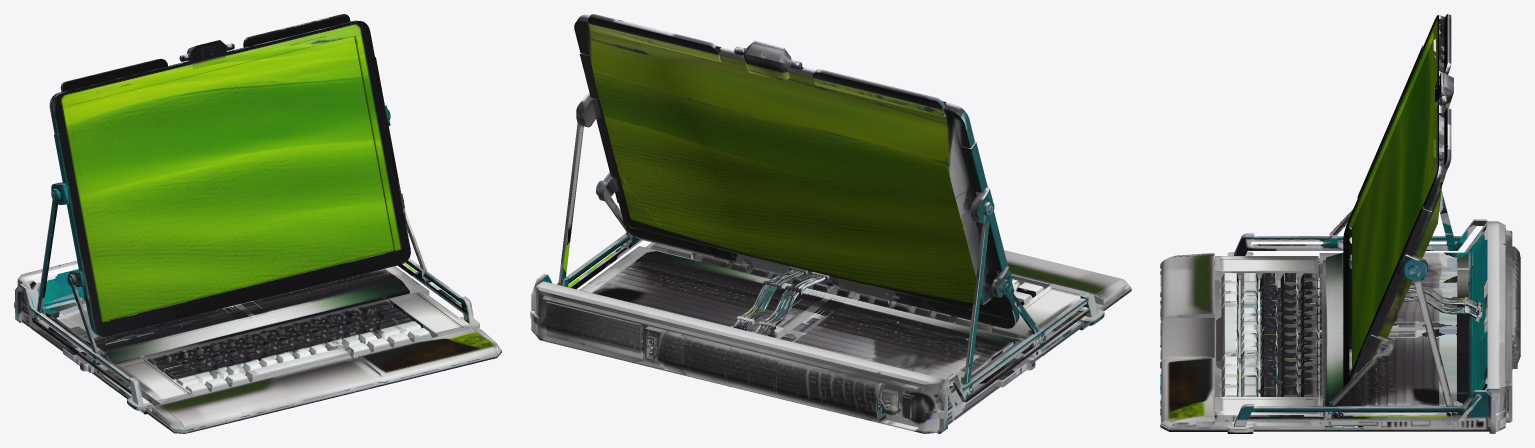
3 renders of one model, left to right at view 1: azimuth 30°, elevation 25°; view 2: azimuth 150°, elevation 25°; view 3: azimuth 270°, elevation 25°, orthographic. The views are drawn at different scales.
Visible parts, largest first — view 1: textured.001; view 2: textured.001; view 3: textured.001.
Boxes of the visible parts, box(x1,y1,x2,y2) form: textured.001: box(14, 14, 501, 433); textured.001: box(530, 14, 1131, 433); textured.001: box(1160, 14, 1520, 433).
Size of the model in its own units: 2 by 1.43 by 1.72.
Materials: 1 (1 with a texture image).
